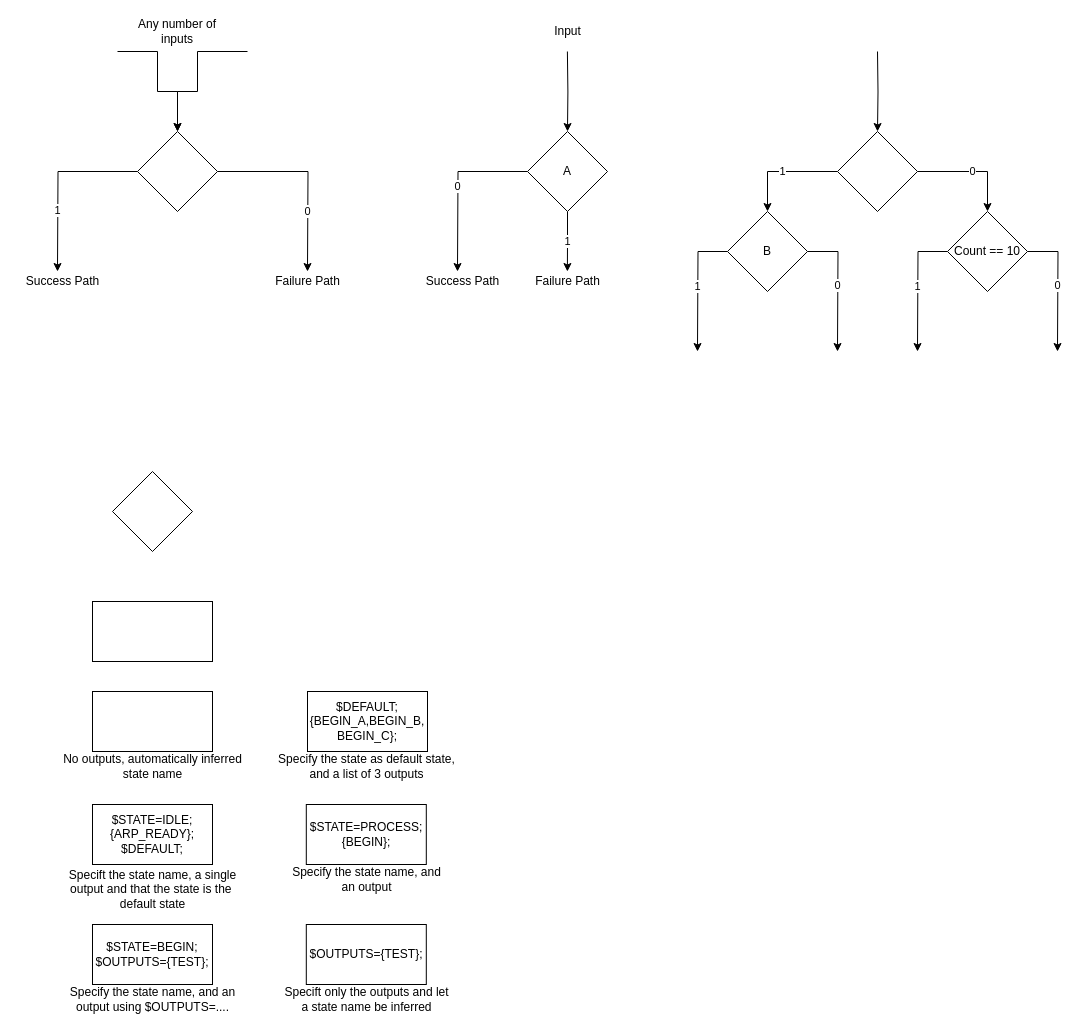
The diagram is 1083 pixels wide and 1032 high, and some of its shapes have lost their labels. The box of each missing label's shape, as (x1, y1, x2, y2) in pixels:
A == 2'b01: (836, 130, 918, 212)
X == 1: (136, 130, 218, 212)
